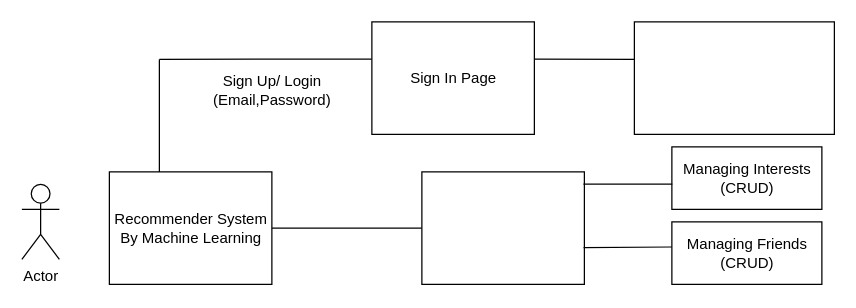
The diagram is 856 pixels wide and 308 high, and some of its shapes have lost their labels. Here are the shapes that lost their labels. From the top down, the centre of each, then its label:
At [733,77]: "User Controller (Validation / Authenticating)".
At [502,227]: "Index Page (HomePage)".
